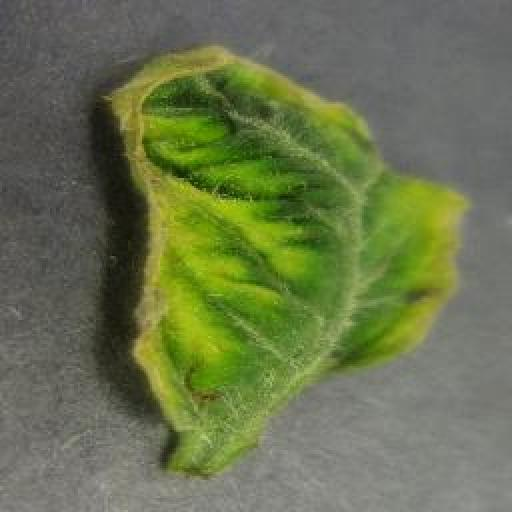disease_tomato: (104, 44, 470, 436)
